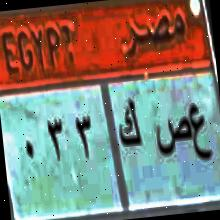0: (22, 134, 36, 163)
3: (73, 111, 96, 168), (45, 113, 68, 167)
ain: (186, 93, 214, 168)
kaaf: (114, 92, 143, 156)
saad: (153, 108, 194, 158)
